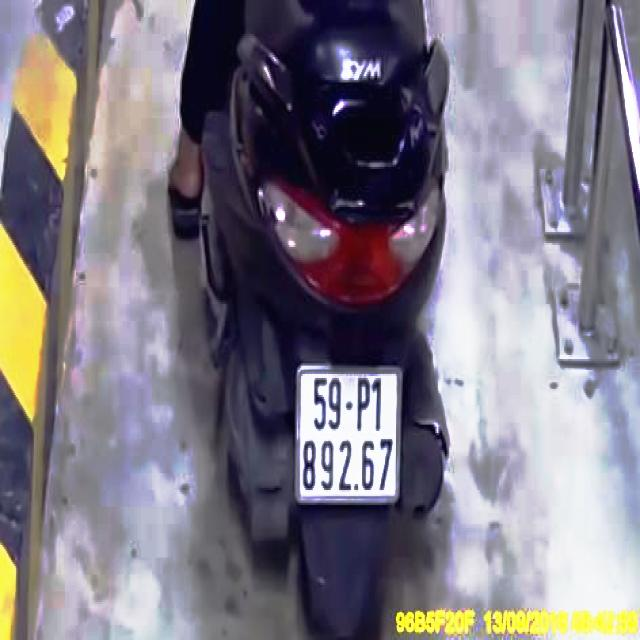license_plate: (299, 370, 402, 501)
